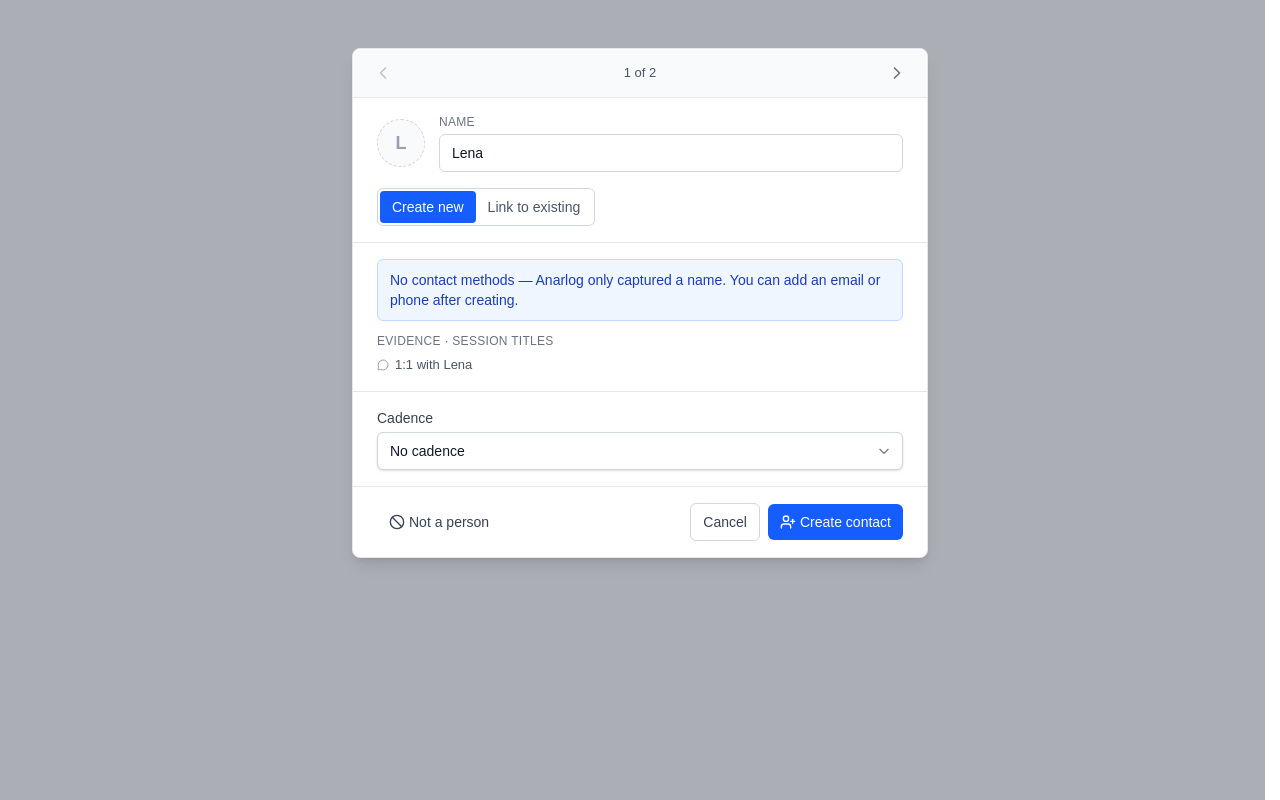
Test case: NameCandidateModal › blocks the link action until a contact is picked
The width and height of the screenshot is (1280, 800).
Click the button "Link to existing": click(534, 207) [476,191,592,223]
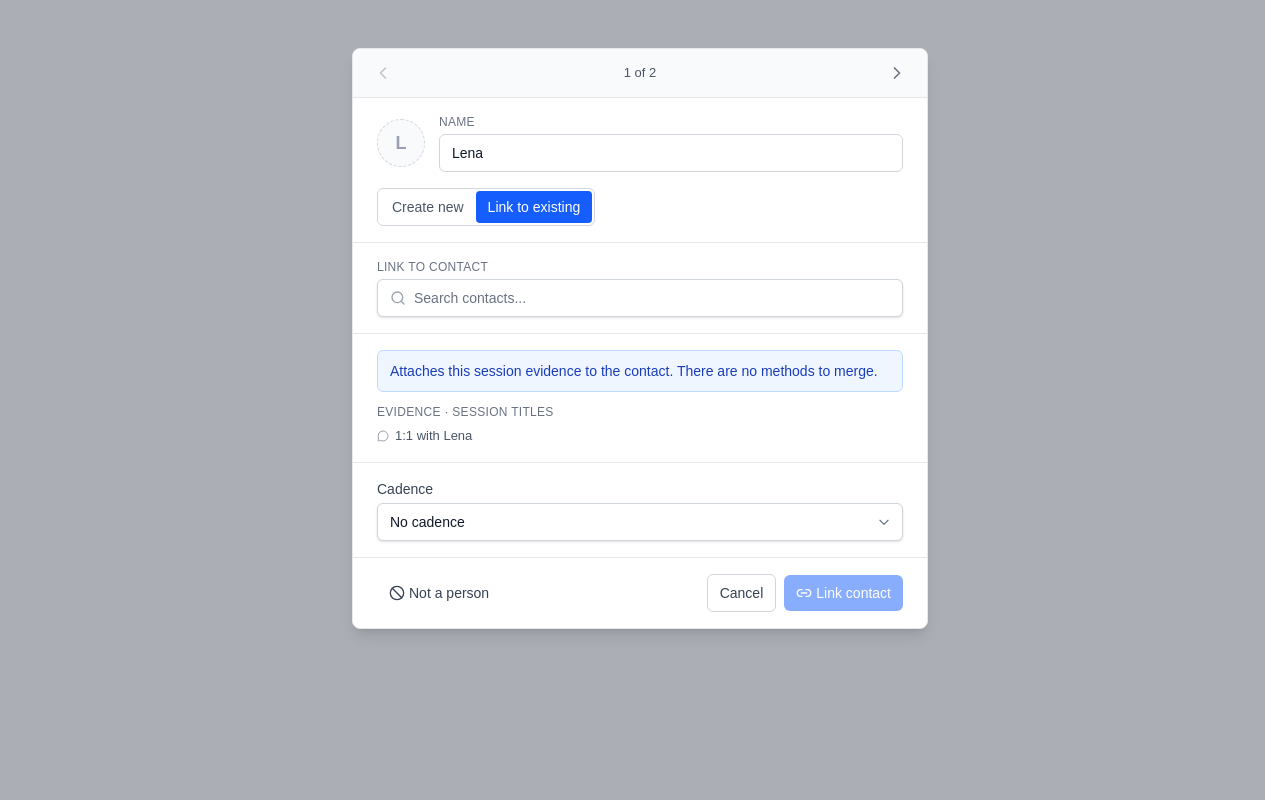
Result: the button "Link contact" is disabled at [784,574,903,610]
